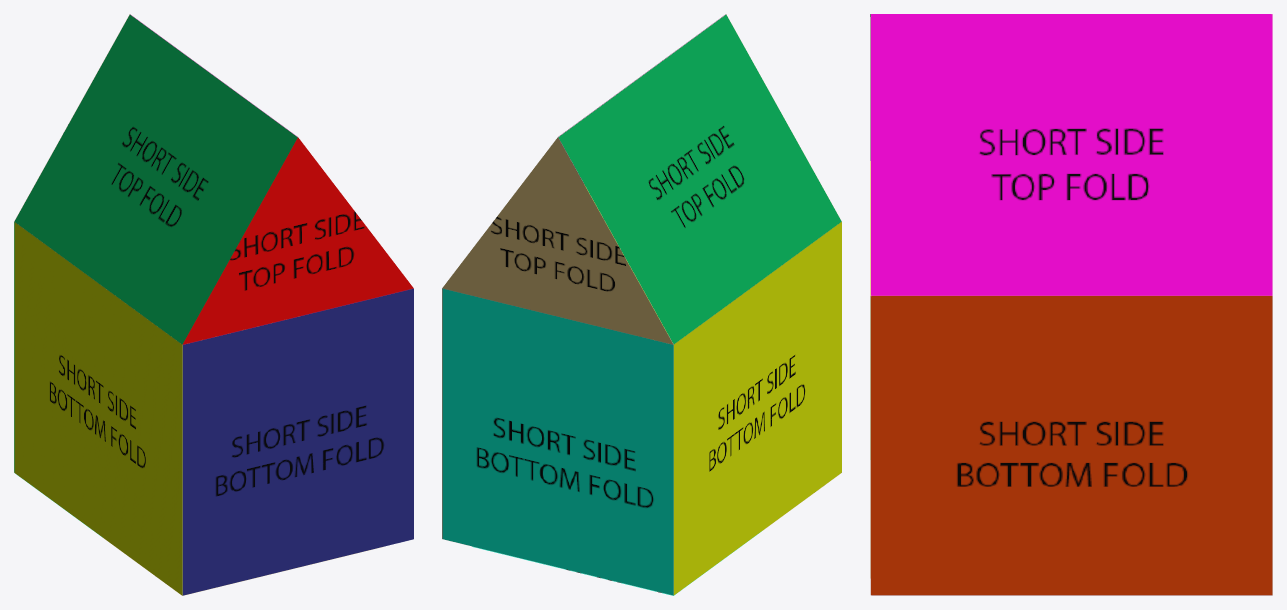
3 views of the same model, side by side, from view 1: azimuth 30°, elevation 25°; view 2: azimuth 150°, elevation 25°; view 3: azimuth 270°, elevation 25° (orthographic). The views are drawn at different scales.
Visible parts, largest first — view 1: bottom, top; view 2: bottom, top; view 3: bottom, top.
Boxes of the visible parts, x1=… form: bottom: x1=14, y1=222, x2=413, y2=595; top: x1=14, y1=14, x2=413, y2=344; bottom: x1=442, y1=222, x2=841, y2=595; top: x1=442, y1=14, x2=841, y2=344; bottom: x1=870, y1=296, x2=1272, y2=595; top: x1=870, y1=14, x2=1272, y2=295.
Bounding box in the file's own units: 137 × 244 × 173.
2 materials, 2 textured.
